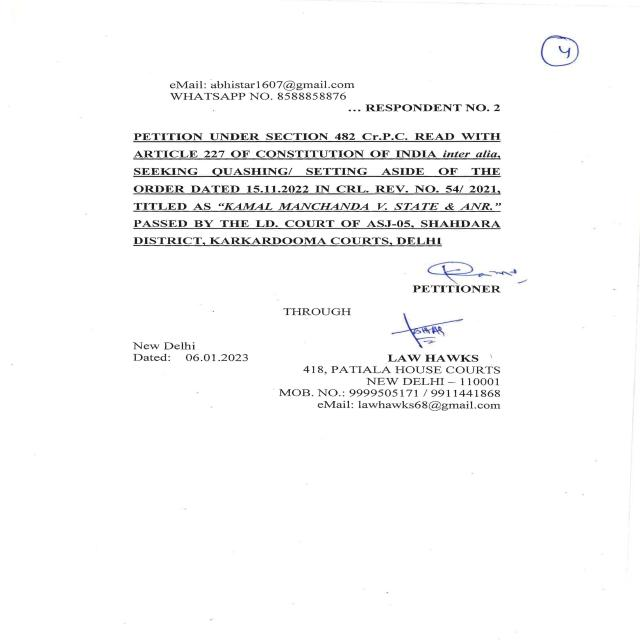page-number: (444, 0, 631, 91)
